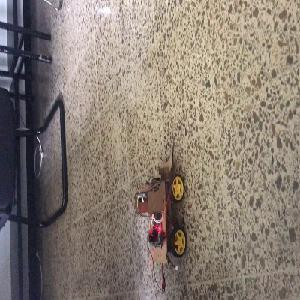Robot: (135, 152, 187, 264)
